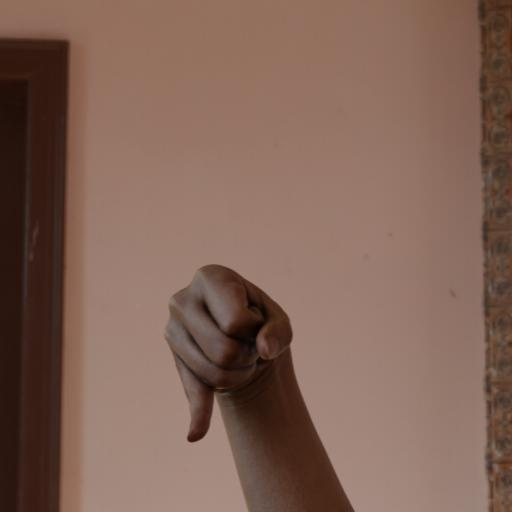J: (149, 254, 351, 472)
